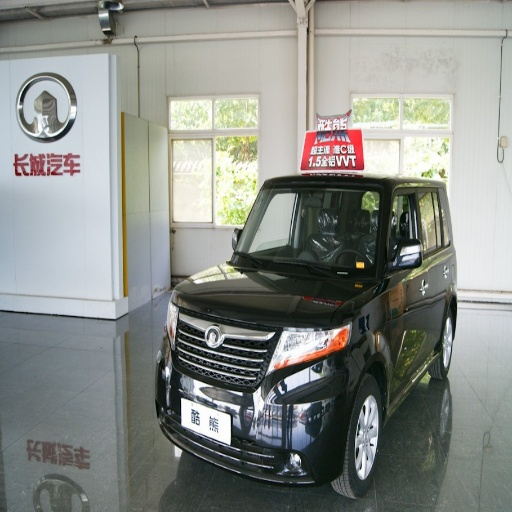front_bumper: (160, 311, 356, 482)
front_glass: (240, 181, 380, 268)
front_left_door: (385, 211, 422, 401)
trunk: (7, 48, 108, 235), (2, 340, 98, 460)
